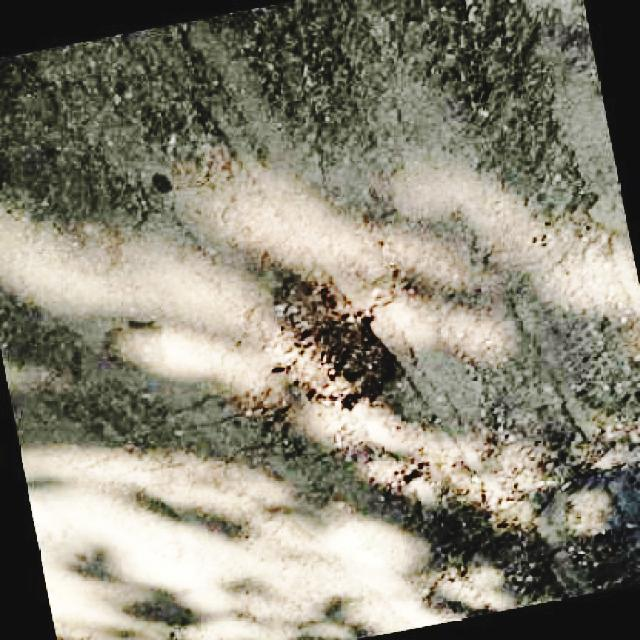pothole: (361, 437, 640, 603), (263, 257, 400, 420)
